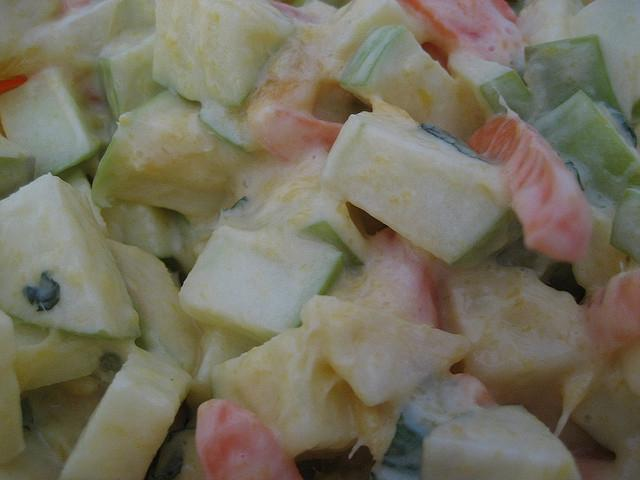apple: (320, 110, 524, 268), (0, 172, 142, 340), (210, 323, 380, 460), (93, 88, 252, 224), (178, 221, 345, 344), (464, 116, 592, 264), (60, 345, 196, 480), (340, 24, 486, 140), (152, 0, 296, 108), (17, 0, 154, 95), (530, 90, 640, 204), (106, 238, 197, 375), (421, 405, 581, 480), (329, 226, 442, 329), (0, 68, 101, 181), (523, 34, 640, 122), (196, 399, 304, 480), (246, 77, 344, 164), (7, 314, 104, 391), (25, 380, 110, 466), (448, 48, 542, 123), (97, 24, 167, 122), (187, 320, 263, 410), (332, 0, 432, 63), (104, 198, 184, 272), (302, 208, 368, 268), (0, 310, 25, 464), (0, 133, 36, 200), (608, 188, 638, 262), (0, 1, 58, 36)
carrot: (466, 115, 590, 264), (196, 398, 304, 480), (364, 228, 442, 330), (401, 1, 516, 56), (249, 104, 343, 166), (582, 268, 640, 362), (445, 374, 499, 408), (1, 73, 28, 94)
